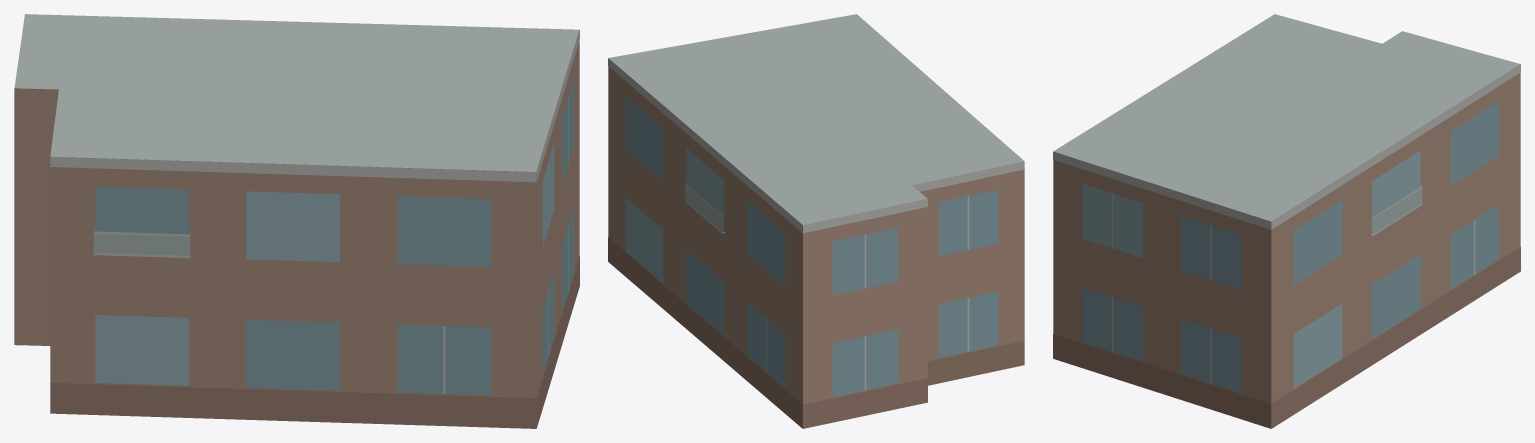
Rendered from survey-upis-32779394.glb.
3 views of the same model, side by side, from view 1: azimuth 30°, elevation 25°; view 2: azimuth 150°, elevation 25°; view 3: azimuth 270°, elevation 25° (orthographic). The views are drawn at different scales.
Visible parts, largest first — view 1: survey-upis-32779394.tmp; view 2: survey-upis-32779394.tmp; view 3: survey-upis-32779394.tmp.
Part boxes in pixels (<box>): survey-upis-32779394.tmp: <box>14,14,579,428</box>; survey-upis-32779394.tmp: <box>608,14,1024,428</box>; survey-upis-32779394.tmp: <box>1053,14,1520,428</box>.
Bounding box in the file's own units: 13.11 × 6.1 × 12.48.
